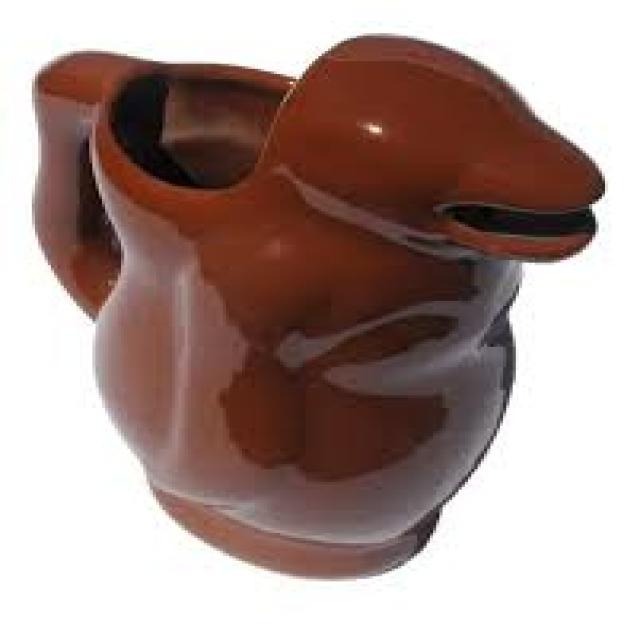glass: (29, 33, 599, 579)
